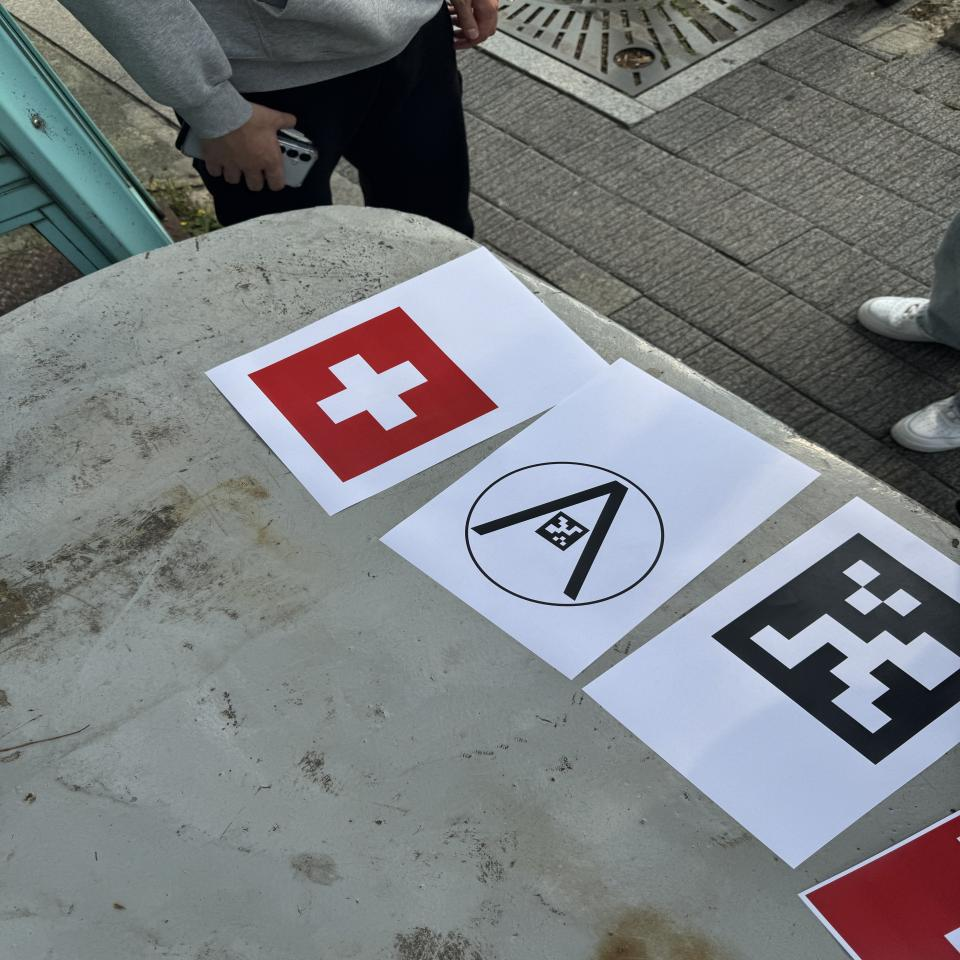ArUro mark: (712, 534, 960, 764)
rescue point: (248, 307, 498, 481)
vertiport: (462, 460, 667, 610)
